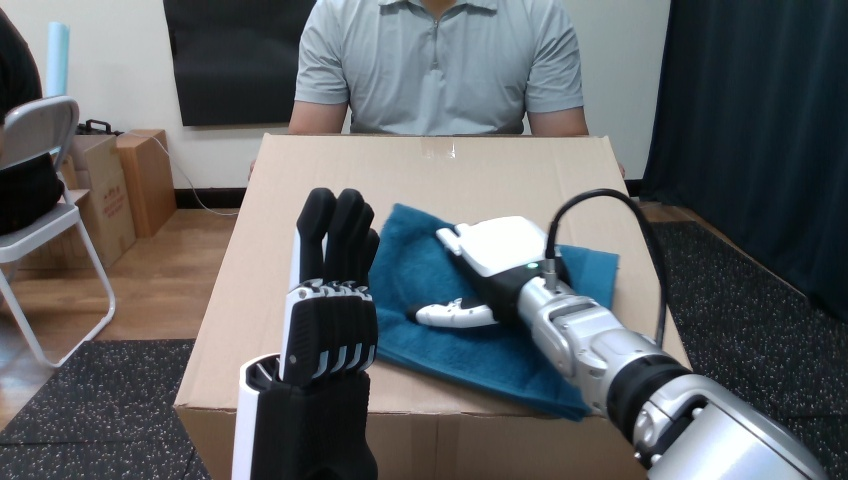left robot hand: (643, 203, 847, 478), (232, 188, 378, 478)
